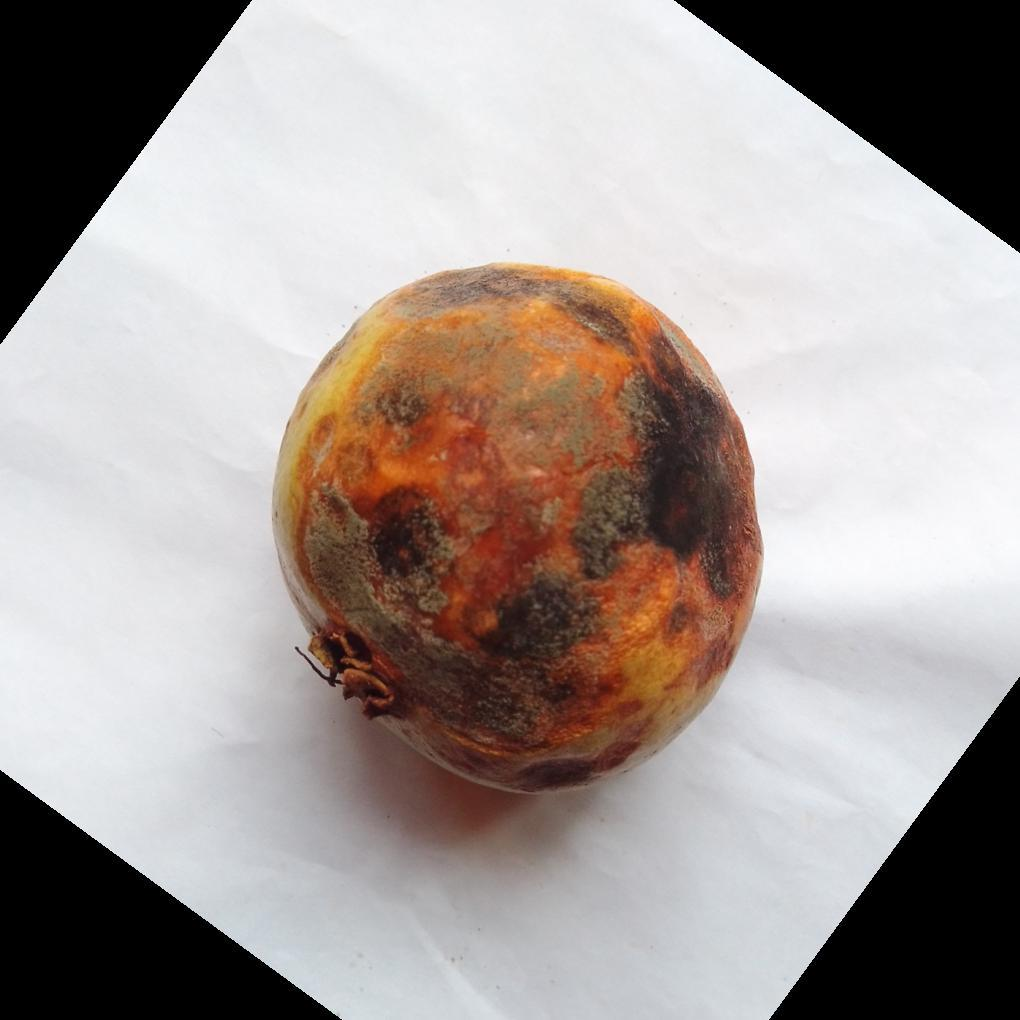FreshOrange: (270, 263, 765, 798)
